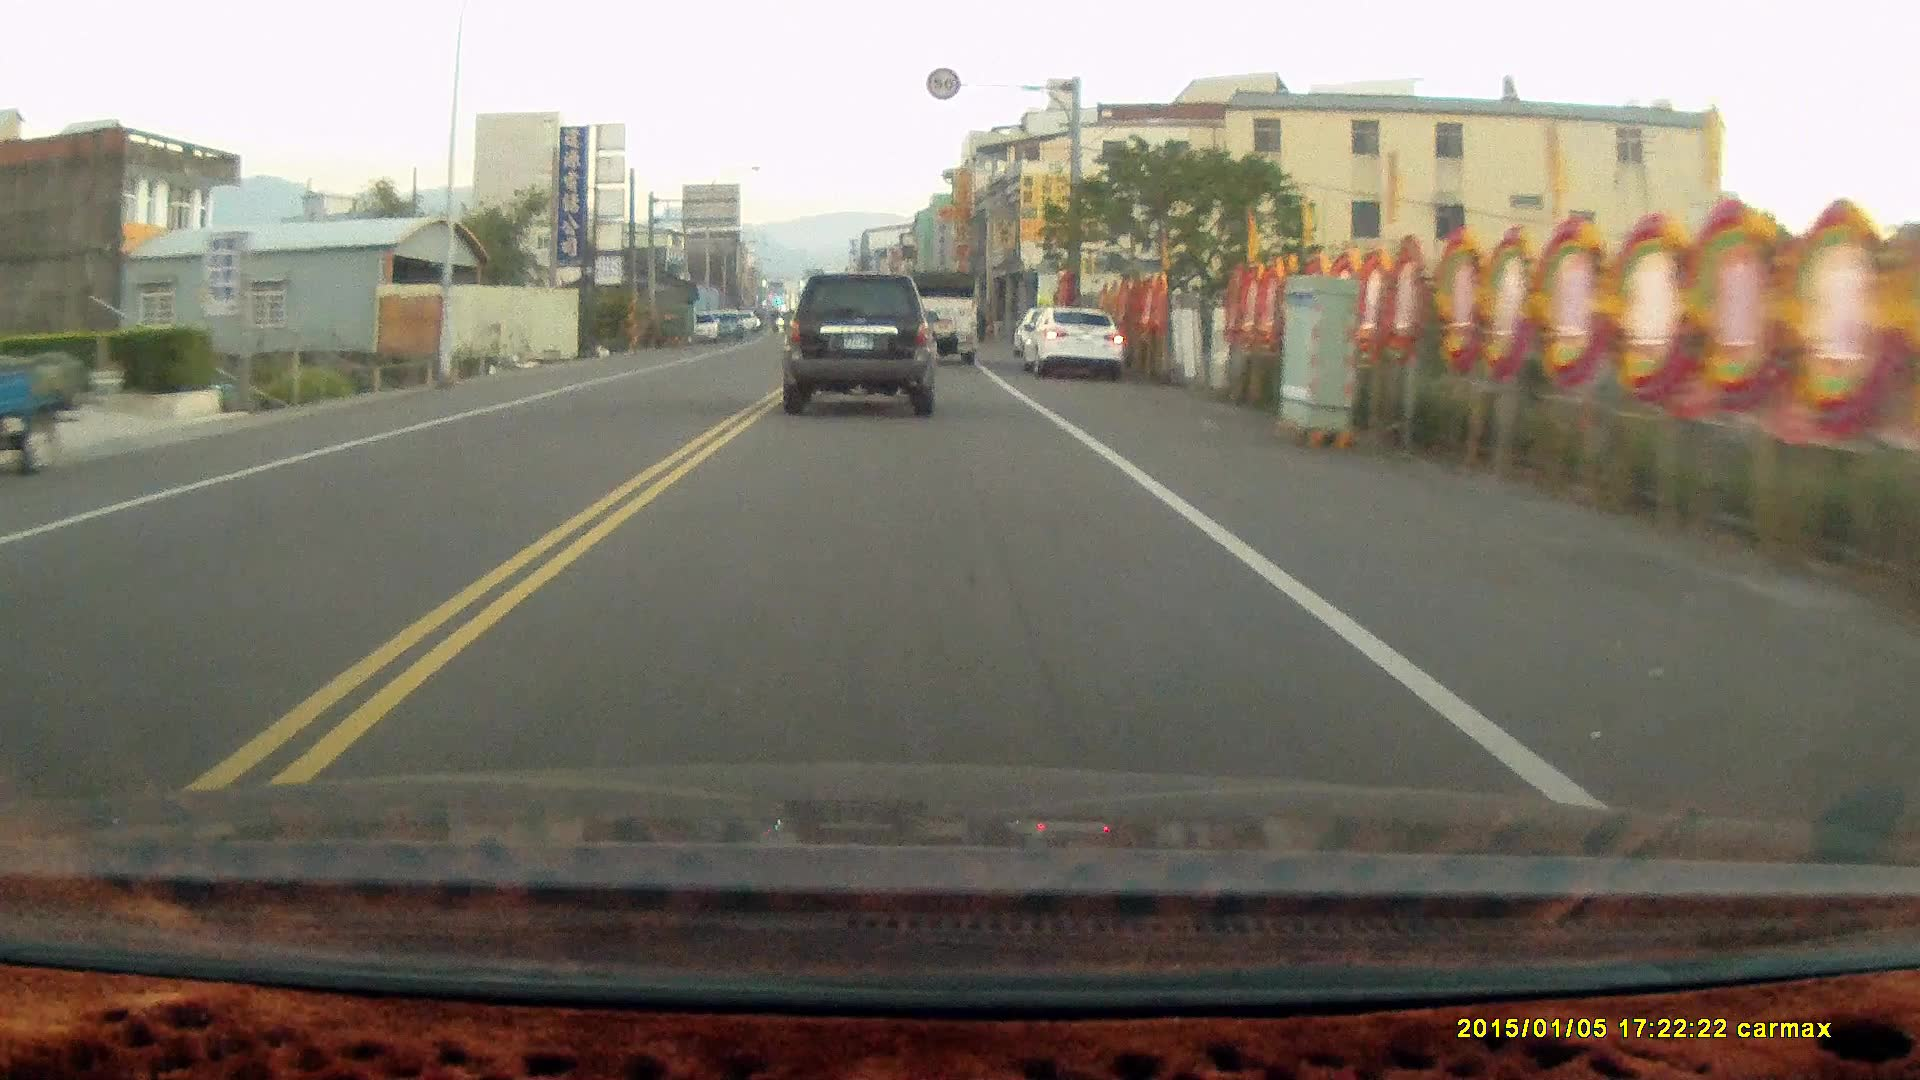vehicle: (782, 258, 936, 405), (1, 289, 80, 487), (1018, 303, 1126, 375), (905, 266, 982, 365)
